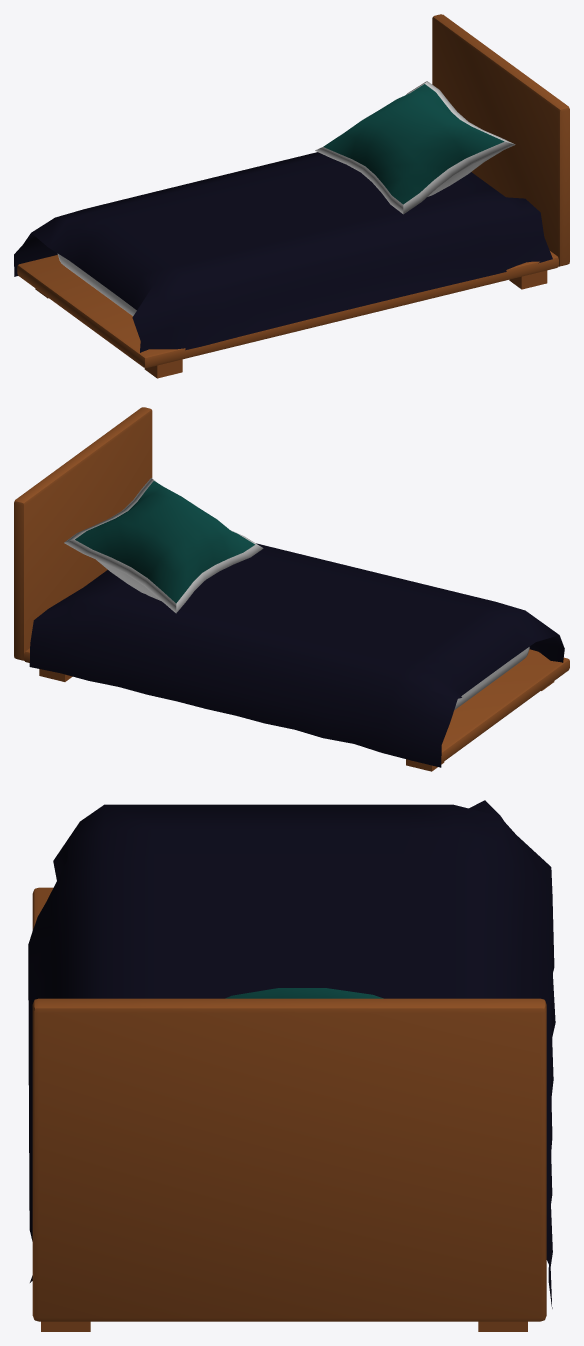
File: Cama individual 3.fbx
3 views of the same model, one above another, from view 1: azimuth 30°, elevation 25°; view 2: azimuth 150°, elevation 25°; view 3: azimuth 270°, elevation 25° (orthographic). The views are drawn at different scales.
Visible parts, largest first — view 1: Cama Individual002; view 2: Cama Individual002; view 3: Cama Individual002.
Boxes of the visible parts, box(x1,y1,x2,y2) form: Cama Individual002: box(14, 14, 569, 378); Cama Individual002: box(14, 407, 569, 771); Cama Individual002: box(28, 800, 555, 1331).
Size of the model in its own units: 156 by 60.09 by 83.07.
